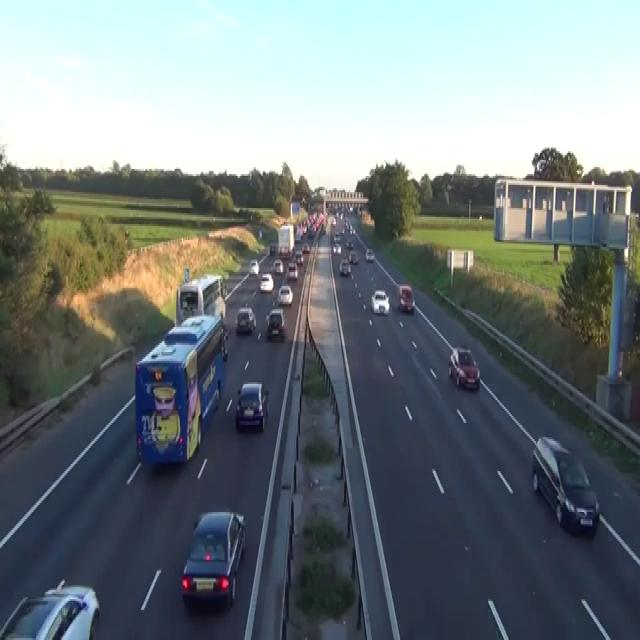Car: (531, 436, 599, 535), (181, 508, 246, 610), (0, 578, 99, 638), (235, 380, 269, 432), (448, 347, 480, 389), (152, 384, 176, 418), (265, 308, 285, 338), (235, 306, 256, 334), (397, 284, 415, 313), (370, 290, 390, 314), (277, 284, 293, 306), (220, 323, 228, 361), (259, 272, 274, 292), (285, 261, 298, 279), (339, 258, 351, 276), (248, 258, 259, 276), (272, 258, 283, 274), (279, 245, 289, 258), (365, 247, 374, 261), (348, 251, 358, 263), (295, 251, 303, 265), (332, 242, 341, 254), (269, 244, 277, 256), (294, 229, 301, 242), (301, 242, 310, 252), (346, 240, 353, 249), (333, 231, 340, 240), (307, 228, 314, 236), (349, 226, 355, 234), (331, 217, 336, 226), (258, 228, 262, 238), (300, 196, 305, 204), (349, 204, 353, 212)
Truck: (134, 313, 228, 466), (175, 268, 227, 326), (277, 224, 294, 258)
